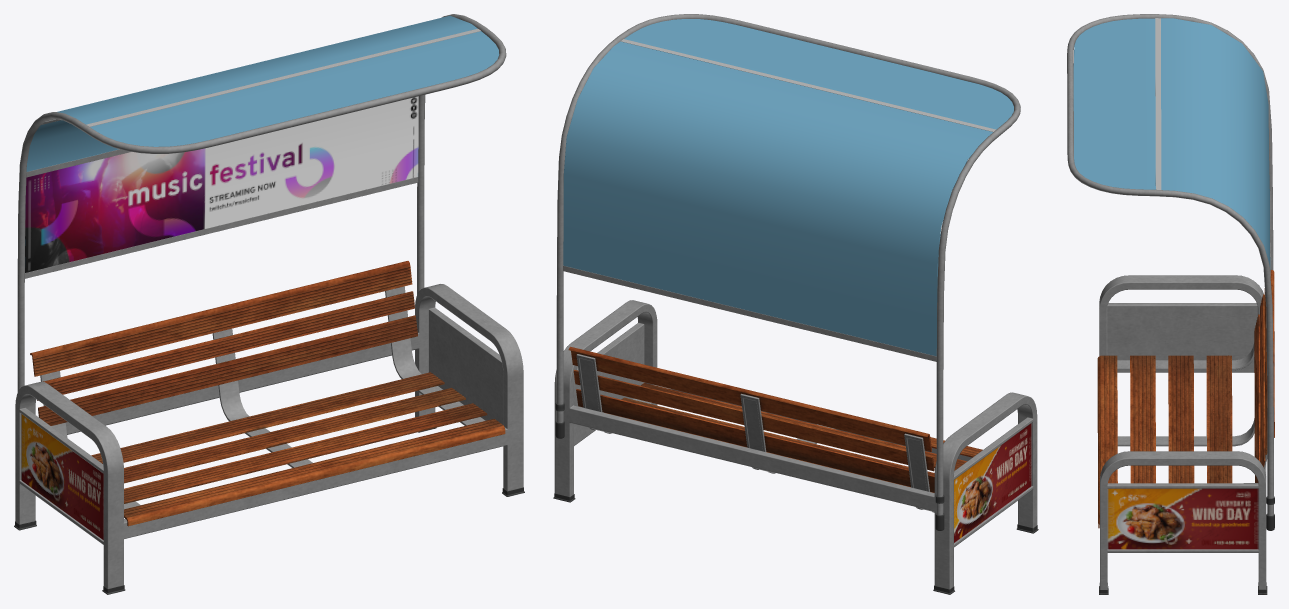
Rendered from Bench.fbx.
The picture shows the model from 3 angles, left to right: view 1: azimuth 30°, elevation 25°; view 2: azimuth 150°, elevation 25°; view 3: azimuth 270°, elevation 25°; orthographic projection. The views are drawn at different scales.
Visible parts, largest first — view 1: Bench; view 2: Bench; view 3: Bench.
Part boxes in pixels (x1,y1,x2,y2): Bench: [14, 14, 524, 594]; Bench: [553, 14, 1038, 594]; Bench: [1067, 14, 1274, 594].
Bounding box in the file's own units: 11.85 × 12.05 × 5.66.
